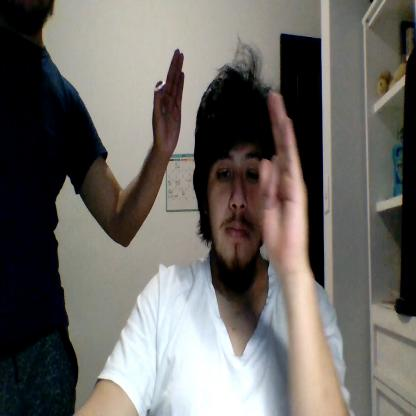F: (258, 90, 308, 266), (152, 48, 184, 154)
